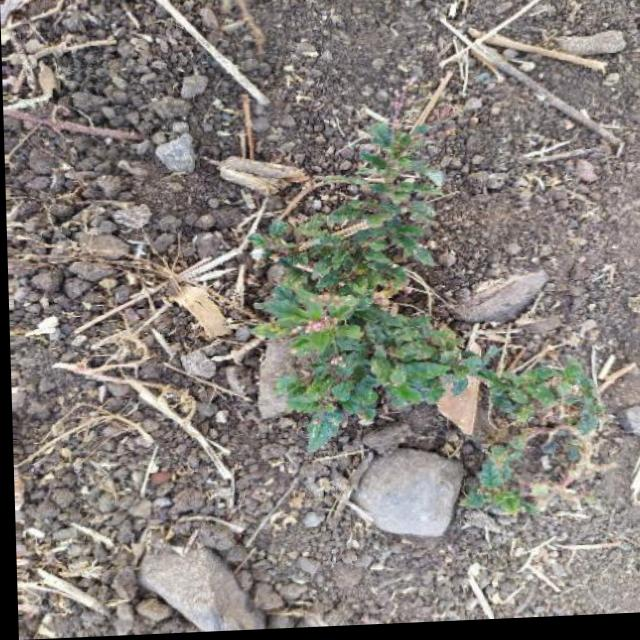weed: (268, 111, 586, 513)
